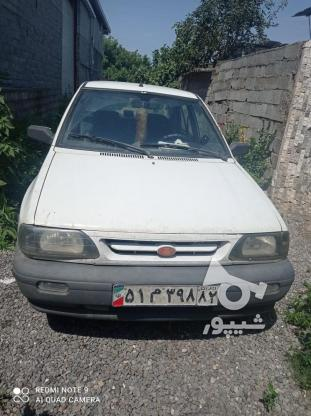car: (112, 285, 220, 306)
